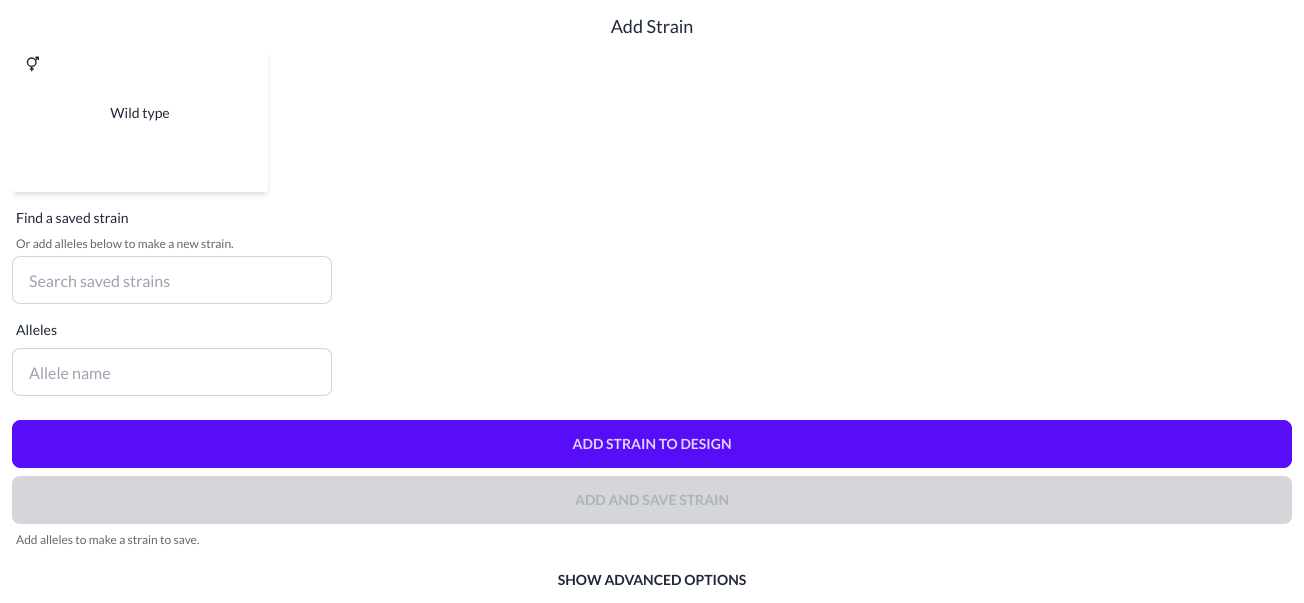
Scenario: Strain form › Add and Save Strain › says why it is disabled, step by step
Expected: the button "Add and Save Strain" is disabled, [12,476,1292,524]
Expected: the text "Add alleles to make a strain to save." is shown, [16,532,200,547]
Click the field labelled "Alleles" at (172, 372), box [12,348,332,396]
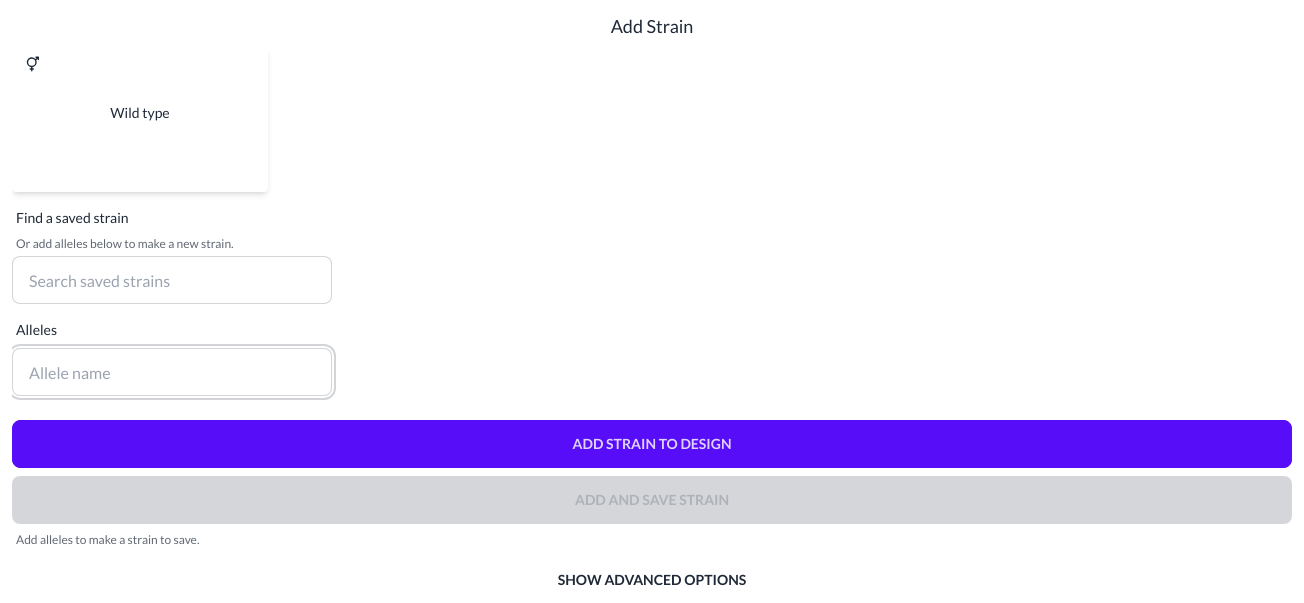
Type keys "ed"
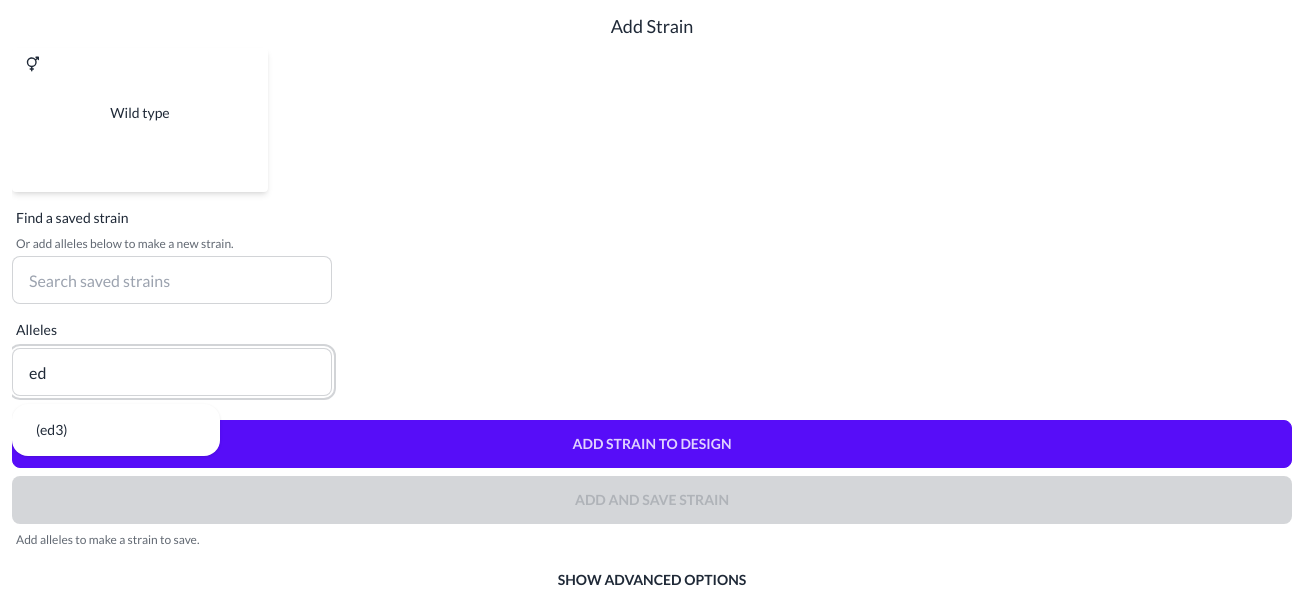
Click the link "(ed3)" at (52, 430), box [36,421,68,438]
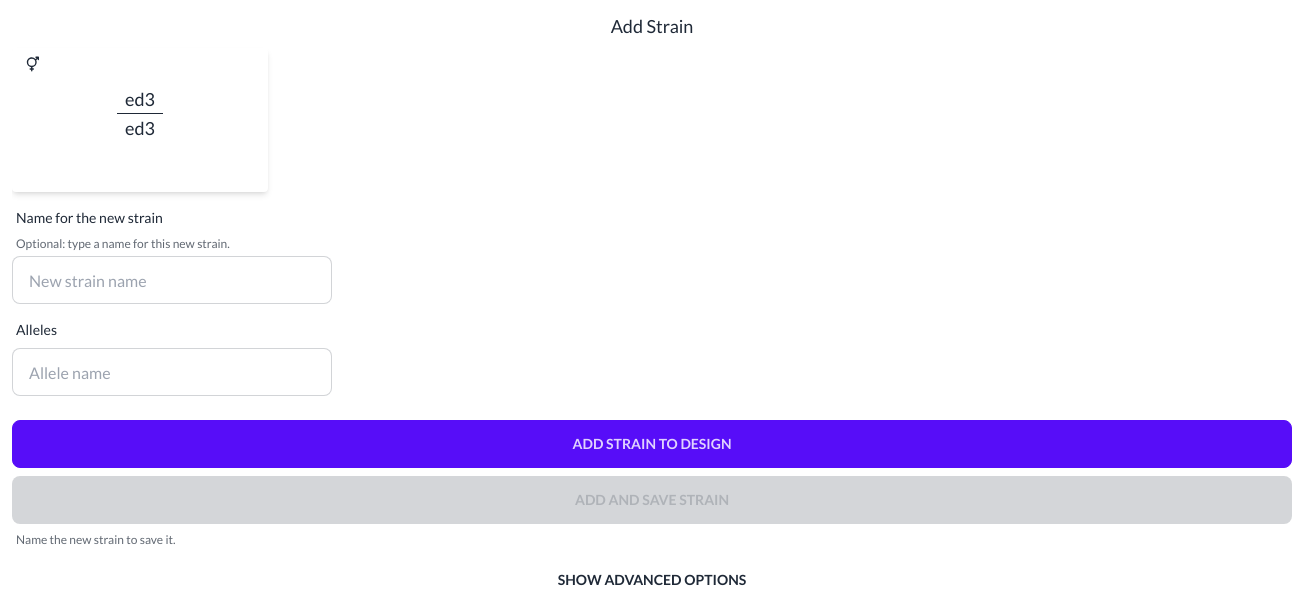
Expected: the button "Add and Save Strain" is disabled, [12,476,1292,524]
Now the text "Name the new strain to save it." is shown, box [16,532,176,547]
Type "NewOne" into the field labelled "Name for the new strain" at (172, 280), box [12,256,332,304]
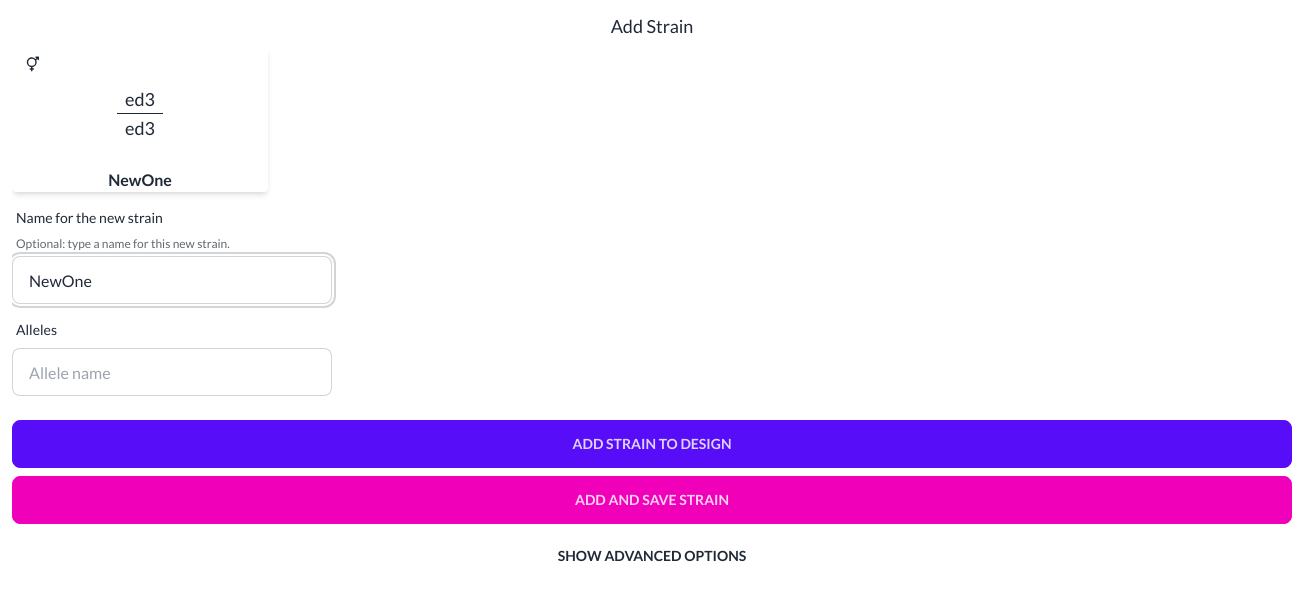
Now the button "Add and Save Strain" is enabled, box [12,476,1292,524]
